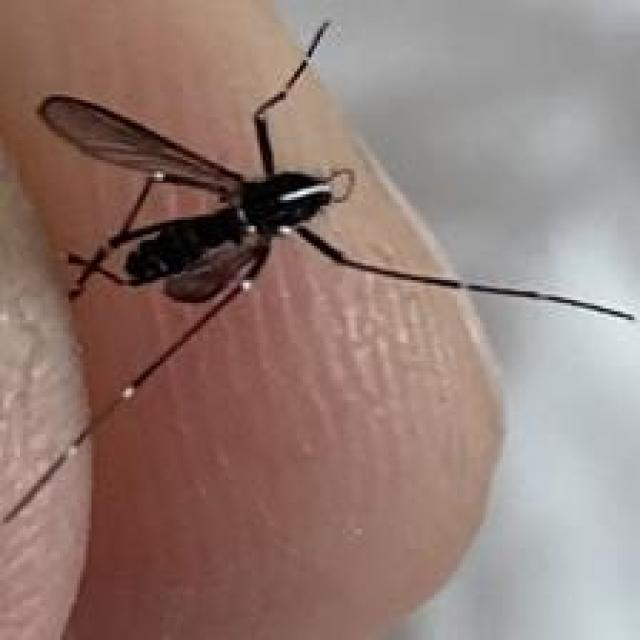Aedes albopictus: (1, 17, 638, 526)
